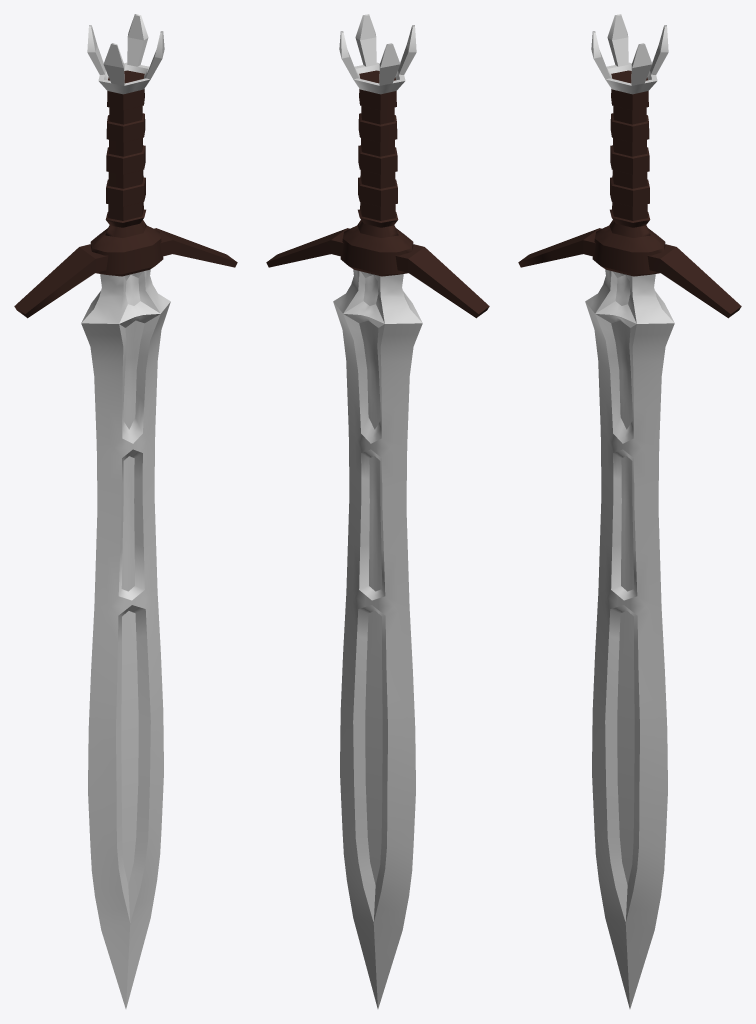
The model's file is Sword_Metal.fbx.
3 renders of one model, left to right at view 1: azimuth 30°, elevation 25°; view 2: azimuth 150°, elevation 25°; view 3: azimuth 330°, elevation 25°, orthographic.
Parts seen in each view (by area): view 1: ShortSword; view 2: ShortSword; view 3: ShortSword.
Boxes of the visible parts, bbox=[...] form: ShortSword: bbox=[14, 14, 237, 1008]; ShortSword: bbox=[266, 14, 489, 1008]; ShortSword: bbox=[518, 14, 741, 1008].
Bounding box in the file's own units: 22.17 × 97.72 × 6.19.
